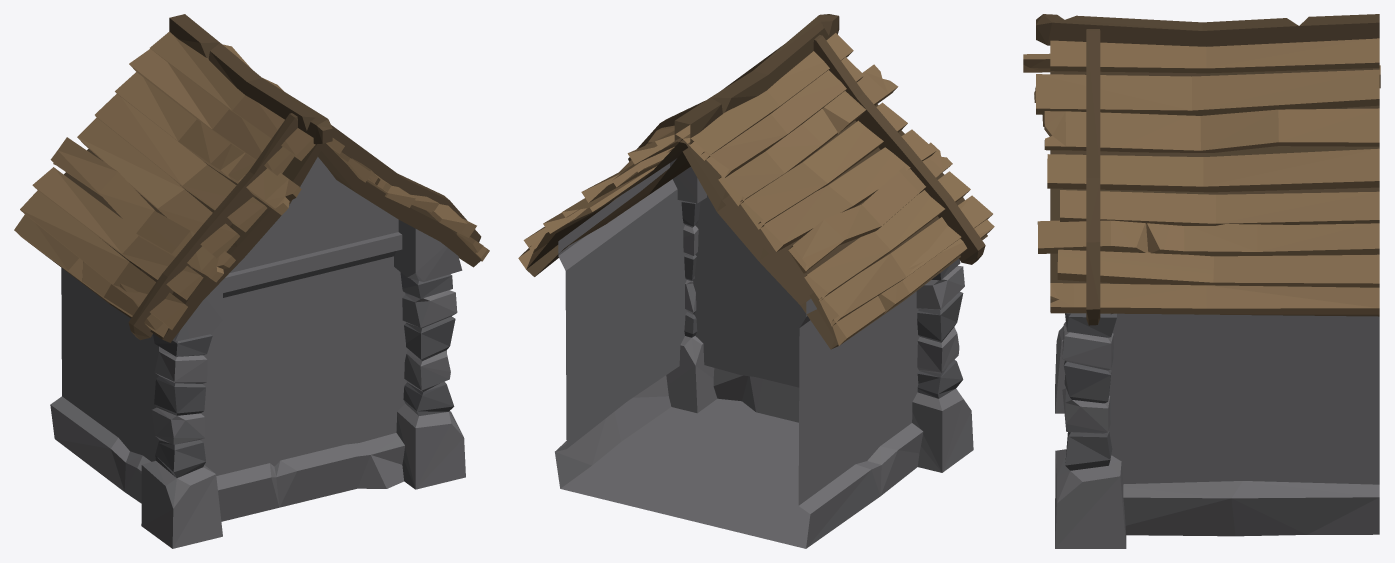
The model's file is SM_Bld_Church_Extension_01_Lite.gltf.
The picture shows the model from 3 angles, left to right: view 1: azimuth 30°, elevation 25°; view 2: azimuth 150°, elevation 25°; view 3: azimuth 270°, elevation 25°; orthographic projection. The views are drawn at different scales.
Parts seen in each view (by area): view 1: SM_Bld_Church_Extension_01_Lite; view 2: SM_Bld_Church_Extension_01_Lite; view 3: SM_Bld_Church_Extension_01_Lite.
Part boxes in pixels (x1,y1,x2,y2): SM_Bld_Church_Extension_01_Lite: (14,14,489,548); SM_Bld_Church_Extension_01_Lite: (518,14,994,548); SM_Bld_Church_Extension_01_Lite: (1023,14,1380,548).
Size of the model in its own units: 4.25 by 4.58 by 3.31.
Materials: 1 (1 with a texture image).
